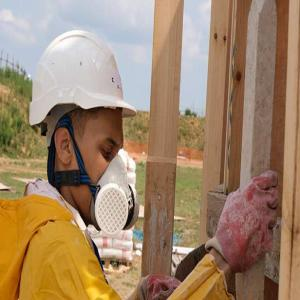white: (35, 33, 137, 231)
